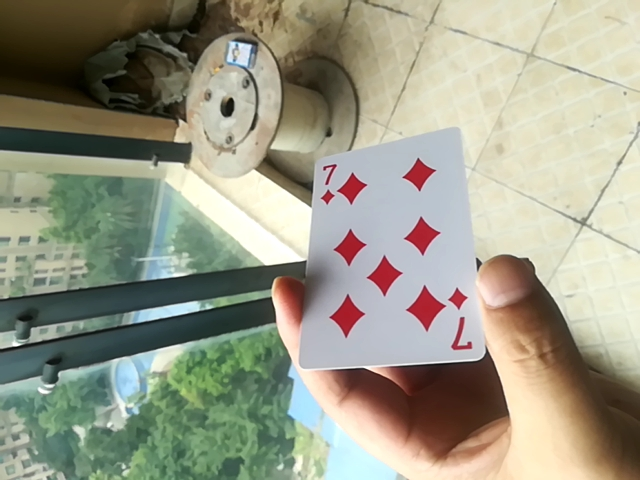fk 7: (292, 130, 483, 368)
